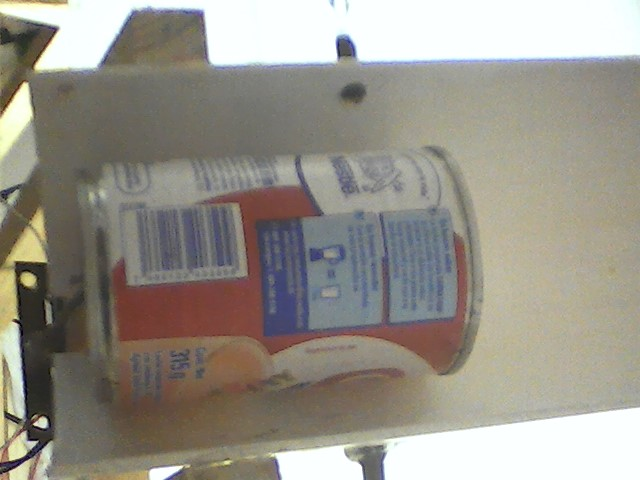lata: (72, 143, 496, 421)
